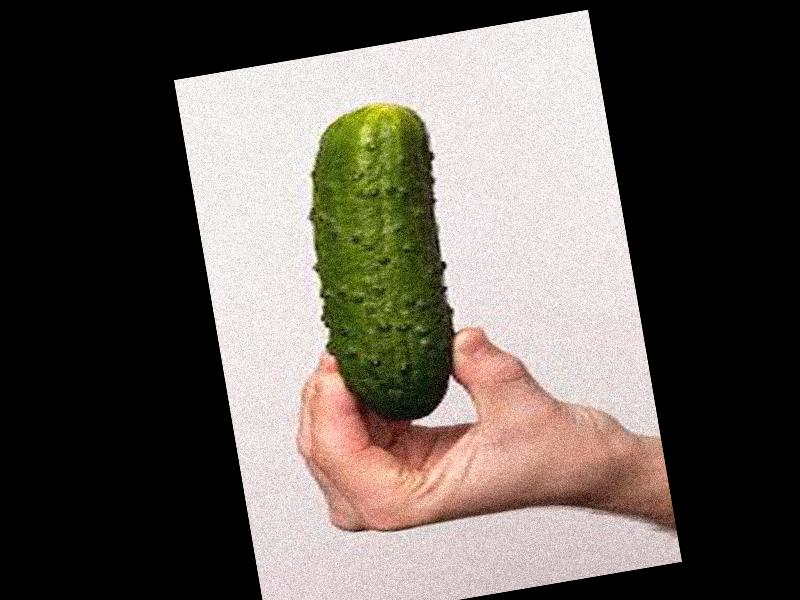Cucumber: (290, 100, 465, 431)
